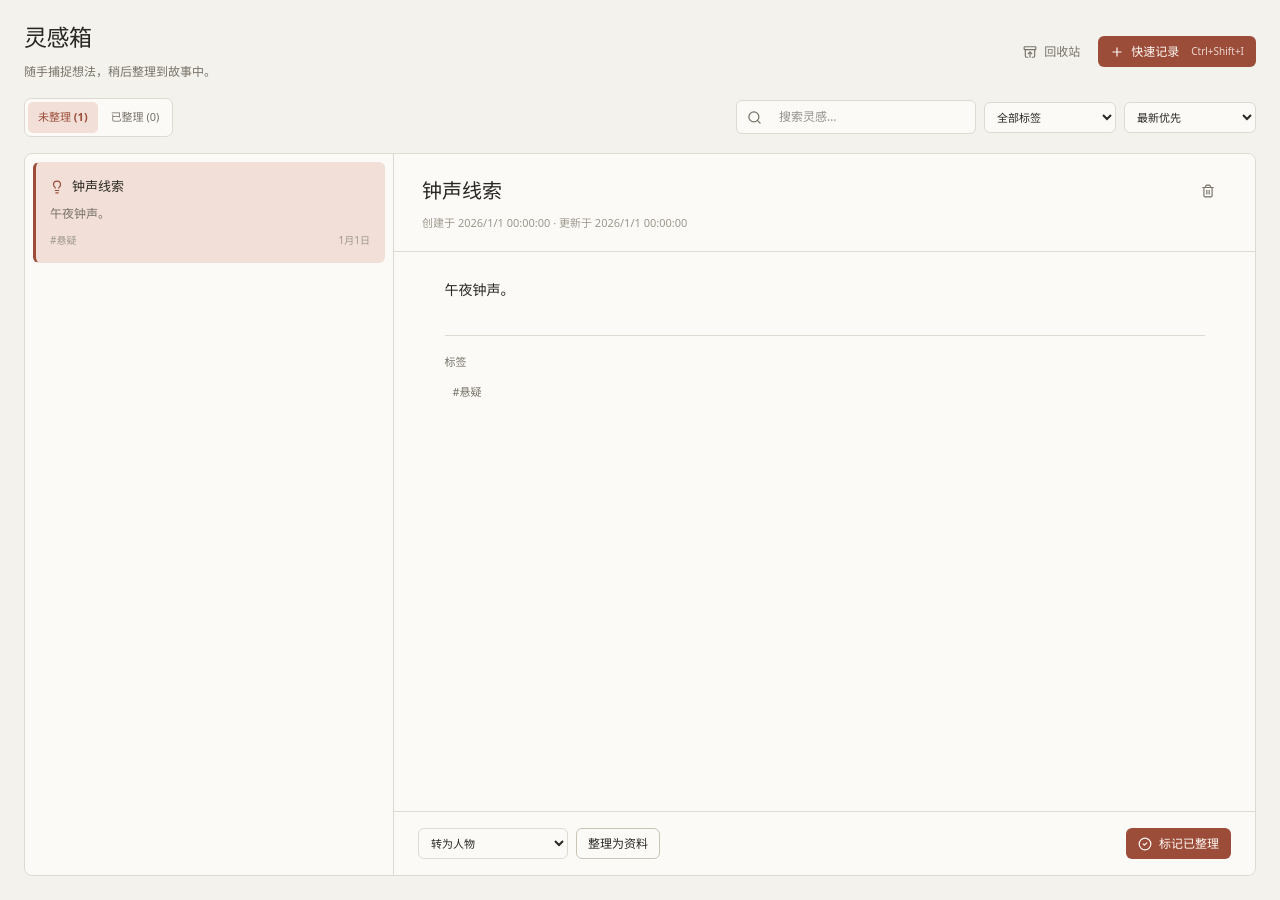
marks an idea processed without creating another entity
Click the button "标记已整理": (1178, 844) [1126, 828, 1231, 859]
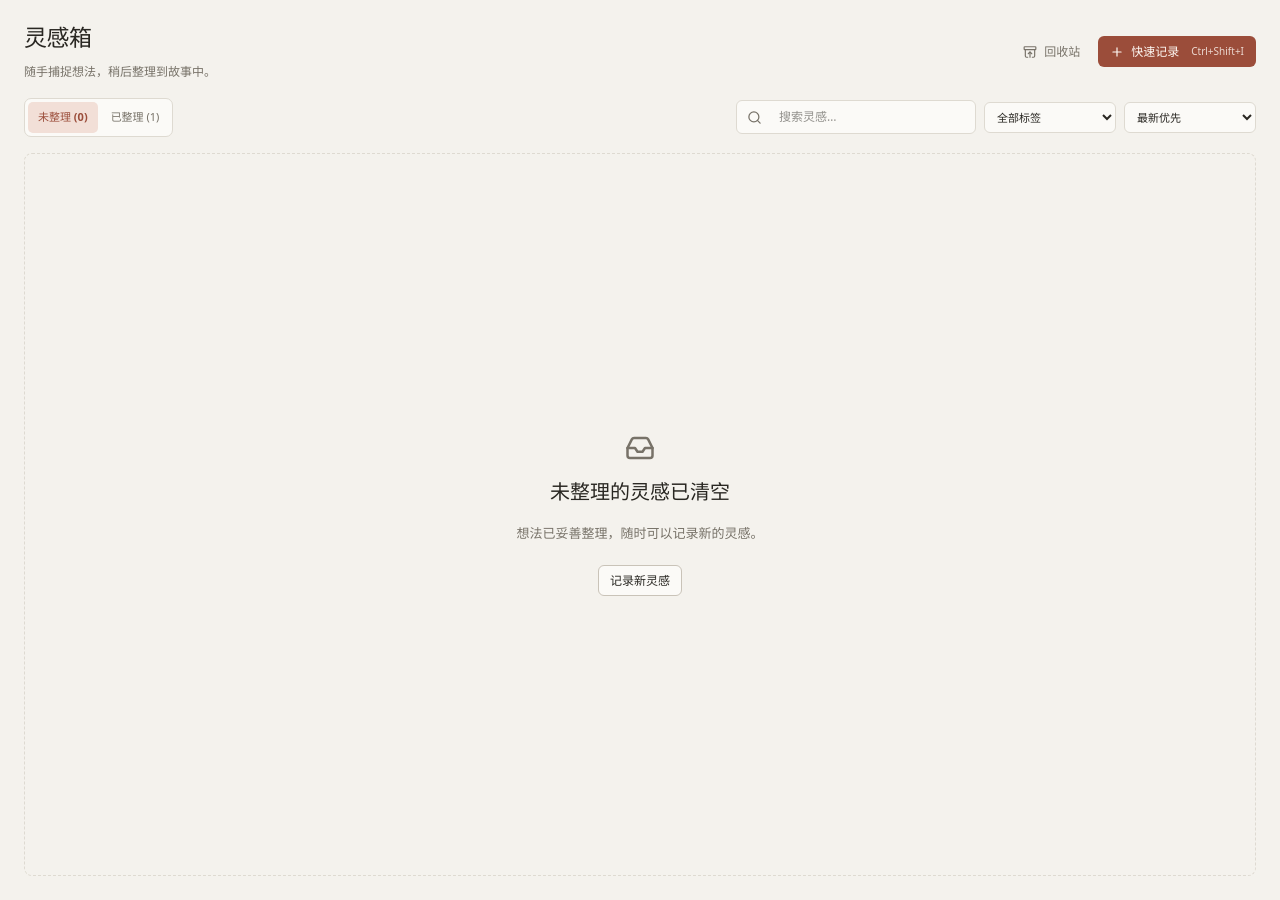
Expected: the heading "未整理的灵感已清空" is shown, [550, 477, 730, 507]
